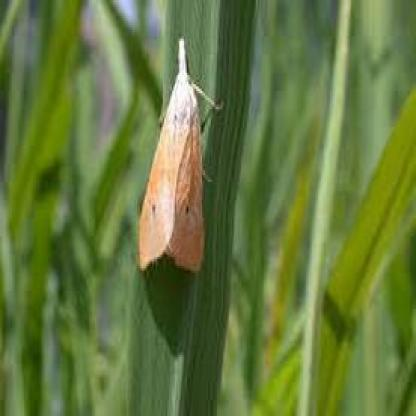stem-borer: (136, 32, 224, 276)
